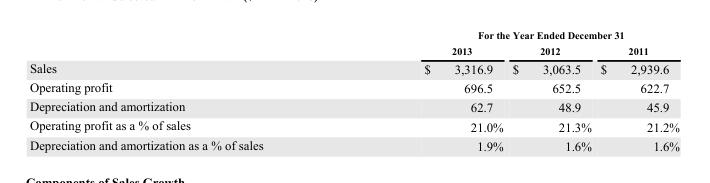table: (28, 28, 678, 152)
table column: (28, 28, 343, 152), (343, 28, 507, 152), (507, 28, 595, 152), (595, 28, 678, 152)
table column header: (28, 28, 678, 58)
table row: (28, 96, 678, 116), (28, 58, 678, 77), (28, 77, 678, 96), (28, 116, 678, 135), (28, 135, 678, 152), (28, 42, 678, 58), (28, 28, 678, 42)
table spanning cell: (343, 28, 678, 42)
